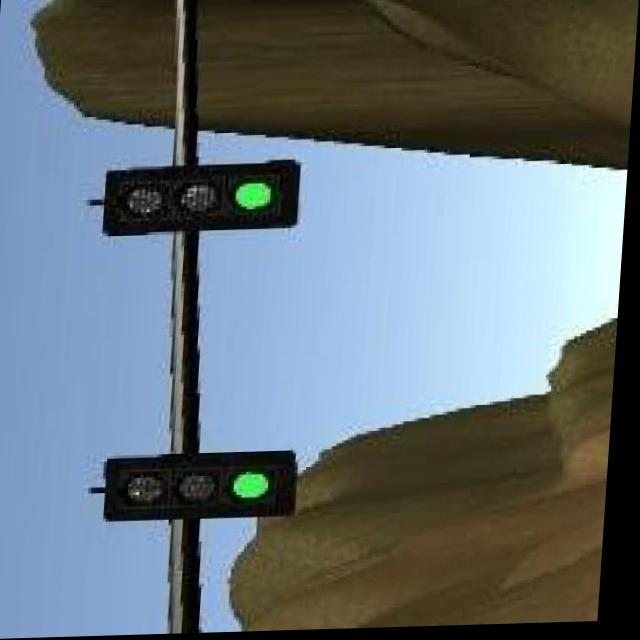green light: (103, 165, 306, 235), (104, 455, 305, 523)
